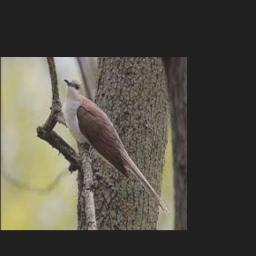Cuckoo: (64, 78, 170, 217)
